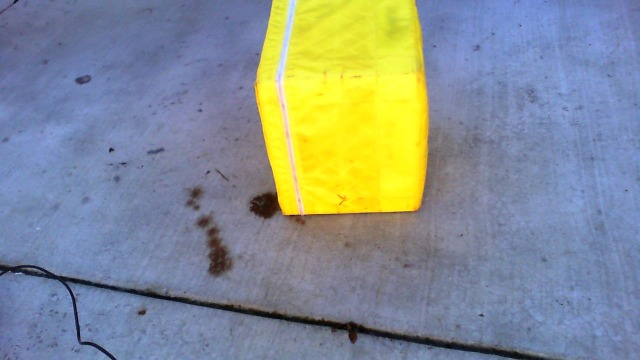cube: (252, 1, 428, 229)
